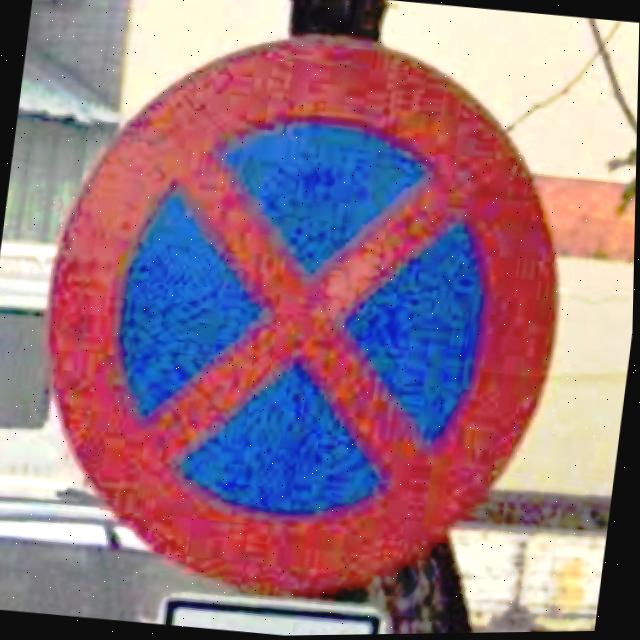nopark: (44, 38, 560, 598)
